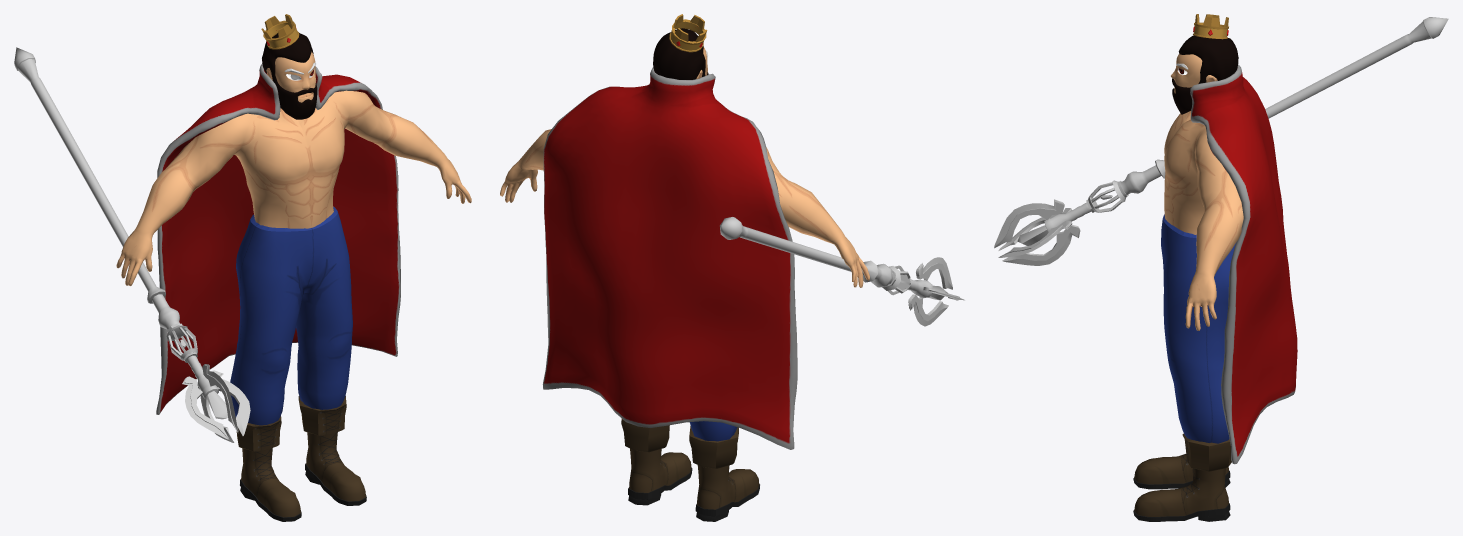
The model's file is rey.fbx.
The picture shows the model from 3 angles, left to right: view 1: azimuth 30°, elevation 25°; view 2: azimuth 150°, elevation 25°; view 3: azimuth 270°, elevation 25°; orthographic projection. The views are drawn at different scales.
Parts seen in each view (by area): view 1: retopocapa1, RETOPO CUERPO, RETOPO PANTALONES, cetro, Cylinder006, Cylinder001, peloybarba, Cylinder008; view 2: retopocapa1, RETOPO CUERPO, cetro, Cylinder001, Cylinder006, peloybarba, Cylinder008, RETOPO PANTALONES; view 3: retopocapa1, RETOPO CUERPO, RETOPO PANTALONES, cetro, Cylinder006, peloybarba, Cylinder001, Cylinder008.
Boxes of the visible parts, bbox=[...] form: retopocapa1: bbox=[156, 63, 400, 414]; RETOPO CUERPO: bbox=[116, 51, 471, 286]; RETOPO PANTALONES: bbox=[230, 206, 352, 425]; cetro: bbox=[14, 47, 250, 442]; Cylinder006: bbox=[298, 396, 366, 505]; Cylinder001: bbox=[236, 416, 301, 521]; peloybarba: bbox=[262, 32, 317, 119]; Cylinder008: bbox=[261, 14, 299, 49]; retopocapa1: bbox=[542, 67, 797, 449]; RETOPO CUERPO: bbox=[500, 47, 869, 287]; cetro: bbox=[720, 217, 964, 326]; Cylinder001: bbox=[689, 426, 759, 521]; Cylinder006: bbox=[621, 418, 692, 505]; peloybarba: bbox=[653, 28, 708, 79]; Cylinder008: bbox=[669, 14, 707, 52]; RETOPO PANTALONES: bbox=[689, 421, 737, 441]; retopocapa1: bbox=[1190, 64, 1297, 464]; RETOPO CUERPO: bbox=[1164, 54, 1243, 330]; RETOPO PANTALONES: bbox=[1161, 214, 1236, 443]; cetro: bbox=[994, 17, 1448, 265]; Cylinder006: bbox=[1133, 433, 1231, 521]; peloybarba: bbox=[1172, 35, 1238, 114]; Cylinder001: bbox=[1133, 454, 1230, 489]; Cylinder008: bbox=[1193, 14, 1228, 39].
Size of the model in its own units: 340 by 427 by 365.
